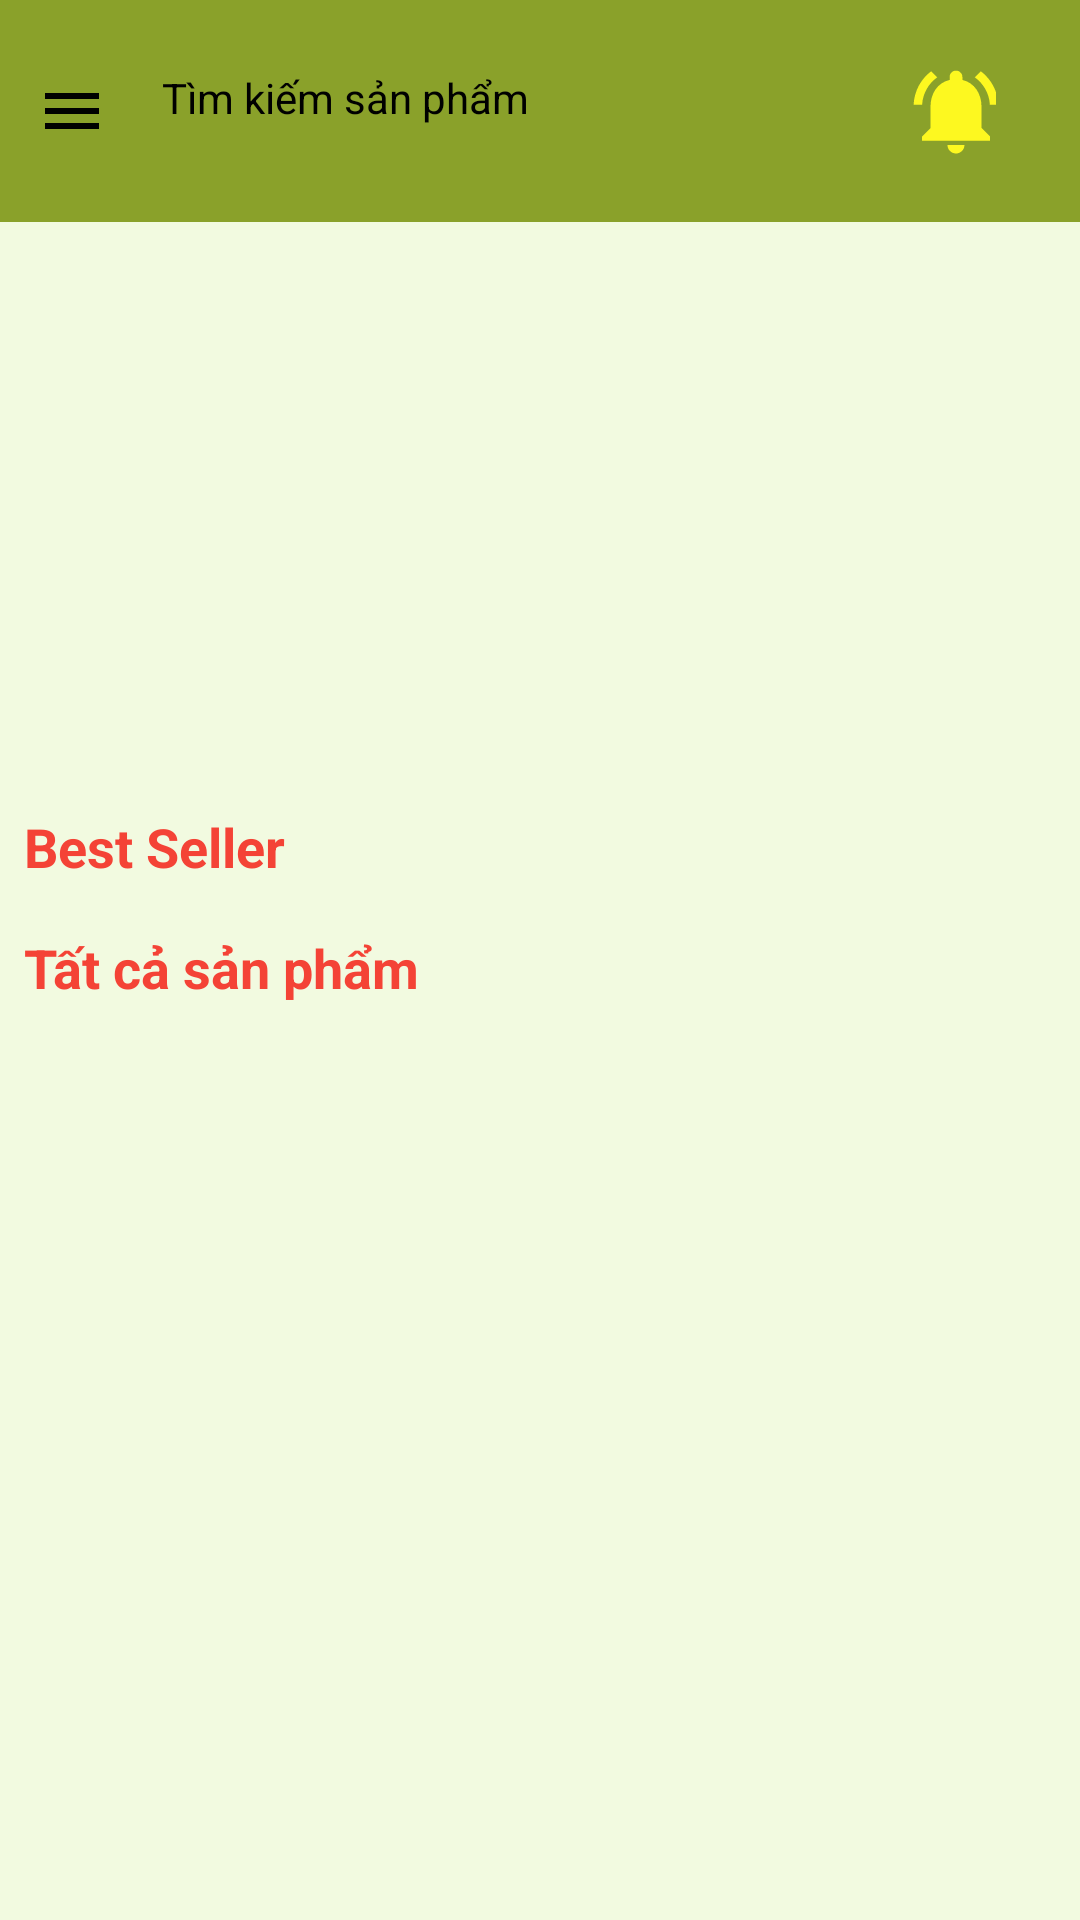

Point at icon controls on the screen. Image size 1080w x 1920h, points as (x,y).
Menu: (72,111)
